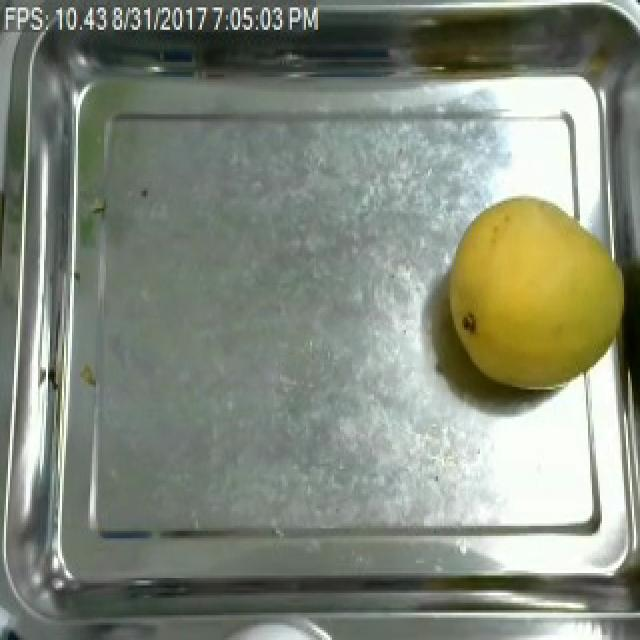fruit: (436, 191, 636, 407)
